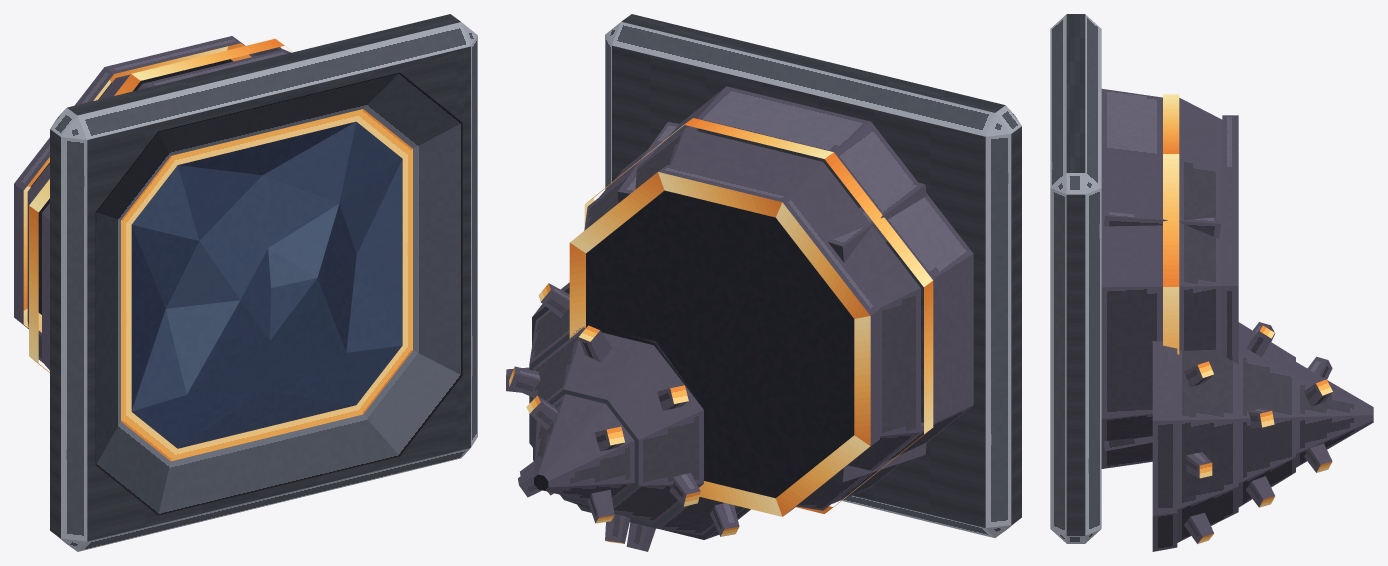
The model's file is marlit_drill.glb.
3 renders of one model, left to right at view 1: azimuth 30°, elevation 25°; view 2: azimuth 150°, elevation 25°; view 3: azimuth 270°, elevation 25°, orthographic. The views are drawn at different scales.
Parts seen in each view (by area): view 1: marlit_drill_body; view 2: marlit_drill_body, marlit_drill_bit; view 3: marlit_drill_body, marlit_drill_bit.
Boxes of the visible parts, left/top/right/bottom form: marlit_drill_body: left=14, top=14, right=477, bottom=551; marlit_drill_body: left=569, top=14, right=1021, bottom=537; marlit_drill_bit: left=506, top=282, right=750, bottom=551; marlit_drill_body: left=1050, top=14, right=1238, bottom=543; marlit_drill_bit: left=1152, top=322, right=1373, bottom=551.
Bounding box in the file's own units: 2.16 × 2.16 × 1.58.
Materials: 1 (1 with a texture image).
